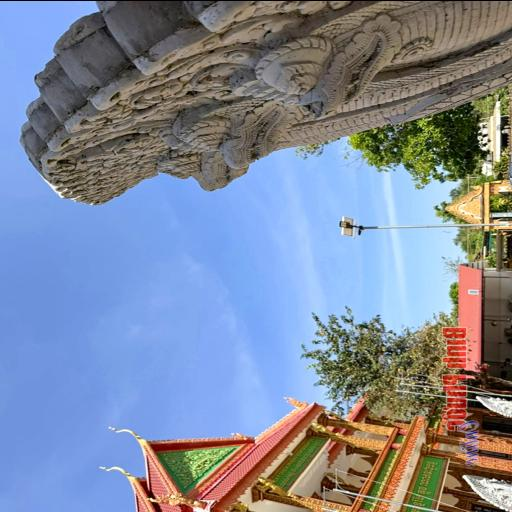lua: (95, 460, 139, 486), (106, 424, 150, 444)
ran: (9, 0, 512, 209), (460, 468, 511, 512), (470, 386, 512, 423), (154, 489, 210, 512), (282, 394, 308, 410)
than: (255, 473, 292, 499), (226, 500, 276, 512), (310, 420, 340, 440)
